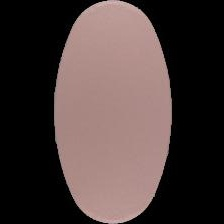51655-600: (0, 0, 224, 224)
